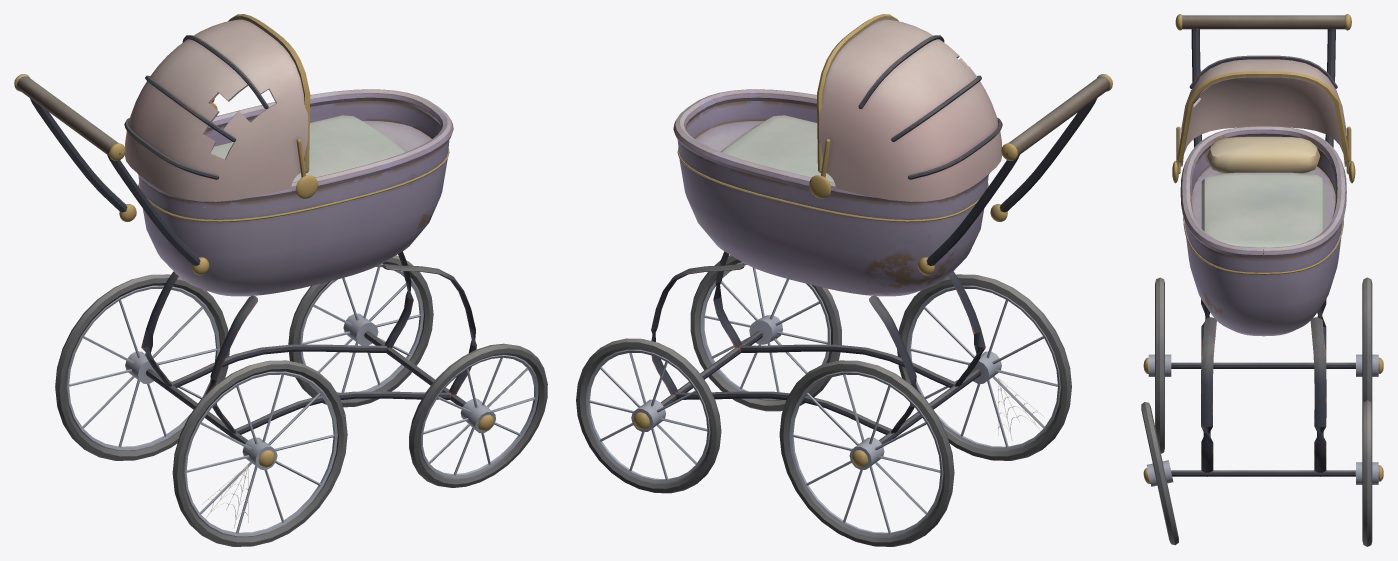
Rendered from old-pram.glb.
3 views of the same model, side by side, from view 1: azimuth 30°, elevation 25°; view 2: azimuth 150°, elevation 25°; view 3: azimuth 270°, elevation 25° (orthographic). The views are drawn at different scales.
Parts seen in each view (by area): view 1: old-pram_body, old-pram_hood; view 2: old-pram_body, old-pram_hood; view 3: old-pram_body, old-pram_hood.
Part boxes in pixels (x1,y1,x2,y2): old-pram_body: (14,74,547,546); old-pram_hood: (124,14,310,201); old-pram_body: (576,74,1112,546); old-pram_hood: (817,14,1002,201); old-pram_body: (1141,14,1383,546); old-pram_hood: (1176,55,1351,174).
Size of the model in its own units: 1.16 by 1.18 by 0.6435.
Materials: 3 (2 with a texture image).
